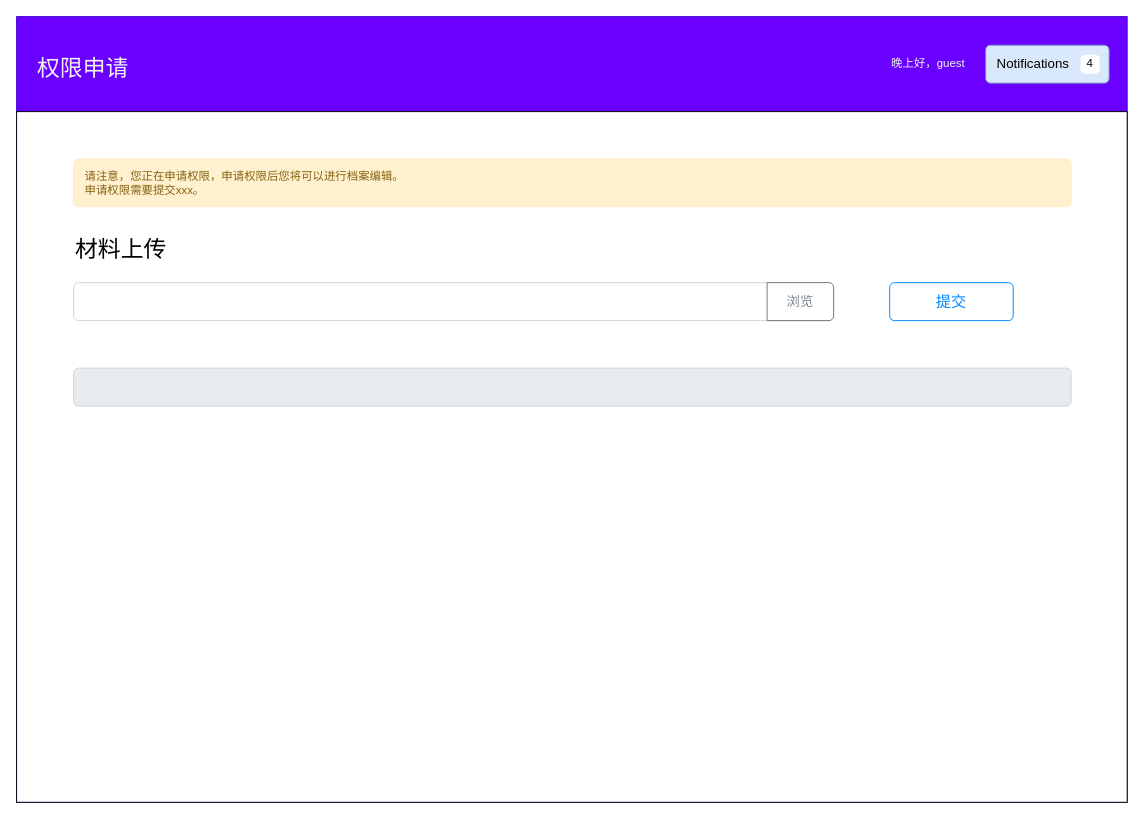
This 1144x819 diagram has some shape labels left out. The centre of each missing label's shape, as x and y in pixels:
"上传材料无比小于2M，jpeg，png文件" goes at point (453, 301).
"目前状态：正在审核" goes at point (572, 386).
